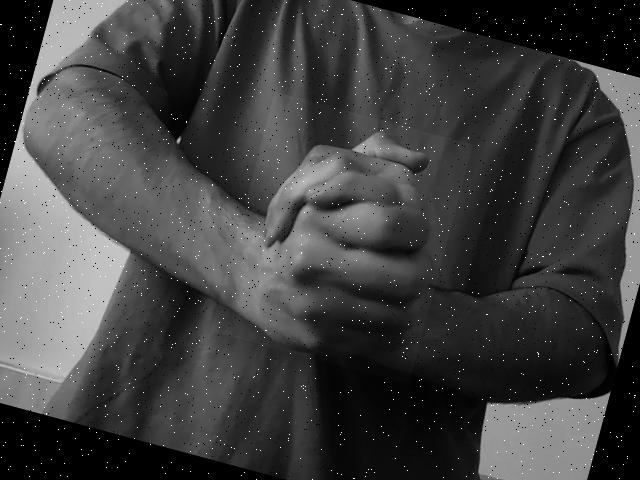friend: (232, 121, 433, 358)
